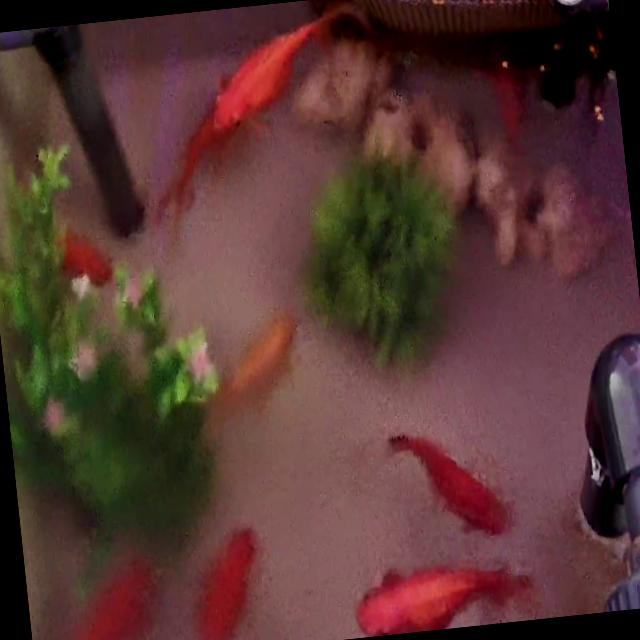fish: (352, 552, 530, 638), (388, 421, 512, 542), (211, 11, 334, 132), (193, 310, 306, 436), (146, 95, 252, 228), (28, 550, 165, 640), (184, 519, 269, 640), (480, 34, 533, 144), (57, 225, 116, 292)
